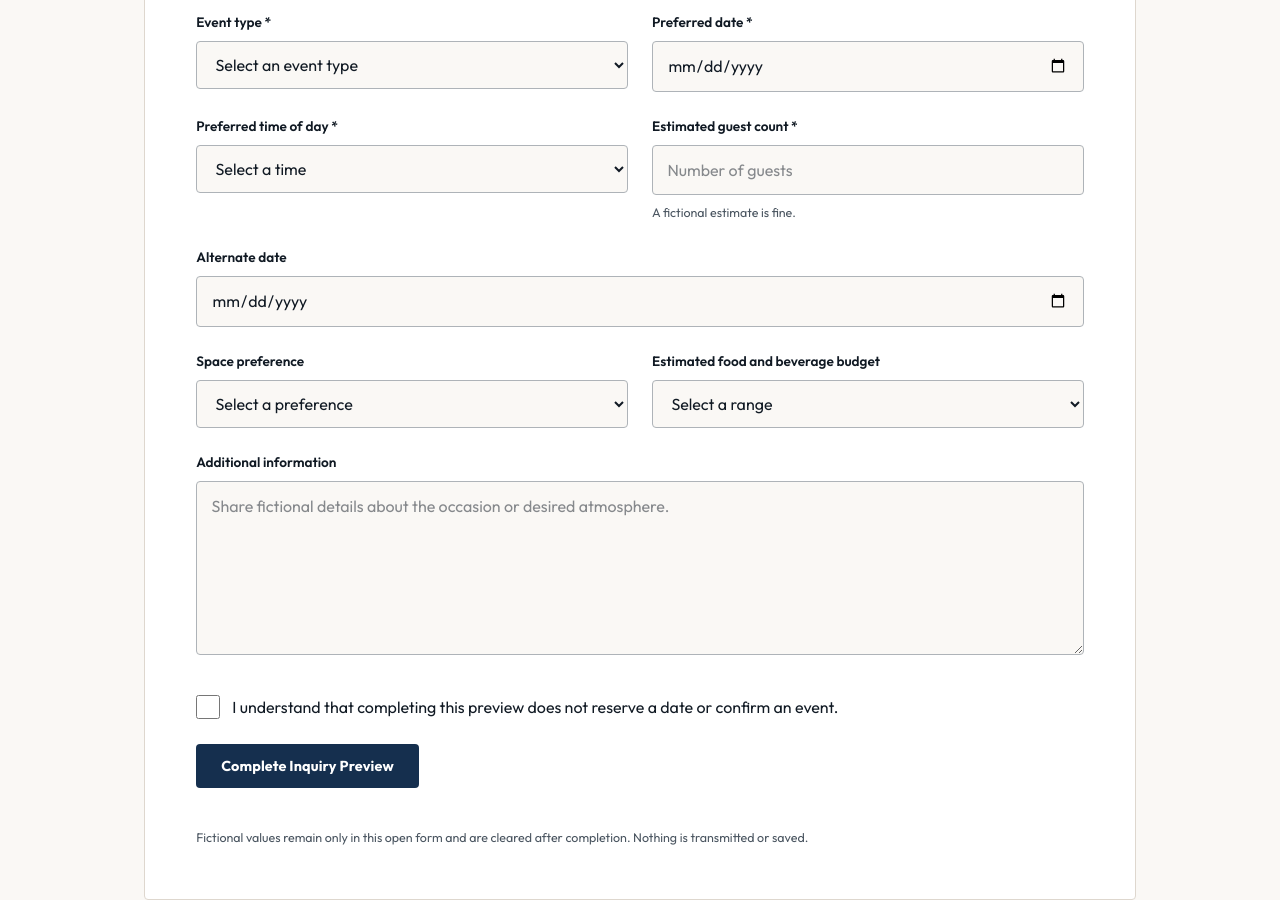
Test: private dining inquiry preview › discloses the local preview and focuses an associated validation summary
(page scrolled)
Click the button "Complete Inquiry Preview".
click(308, 766)  # box [196,744,419,788]
(page scrolled)
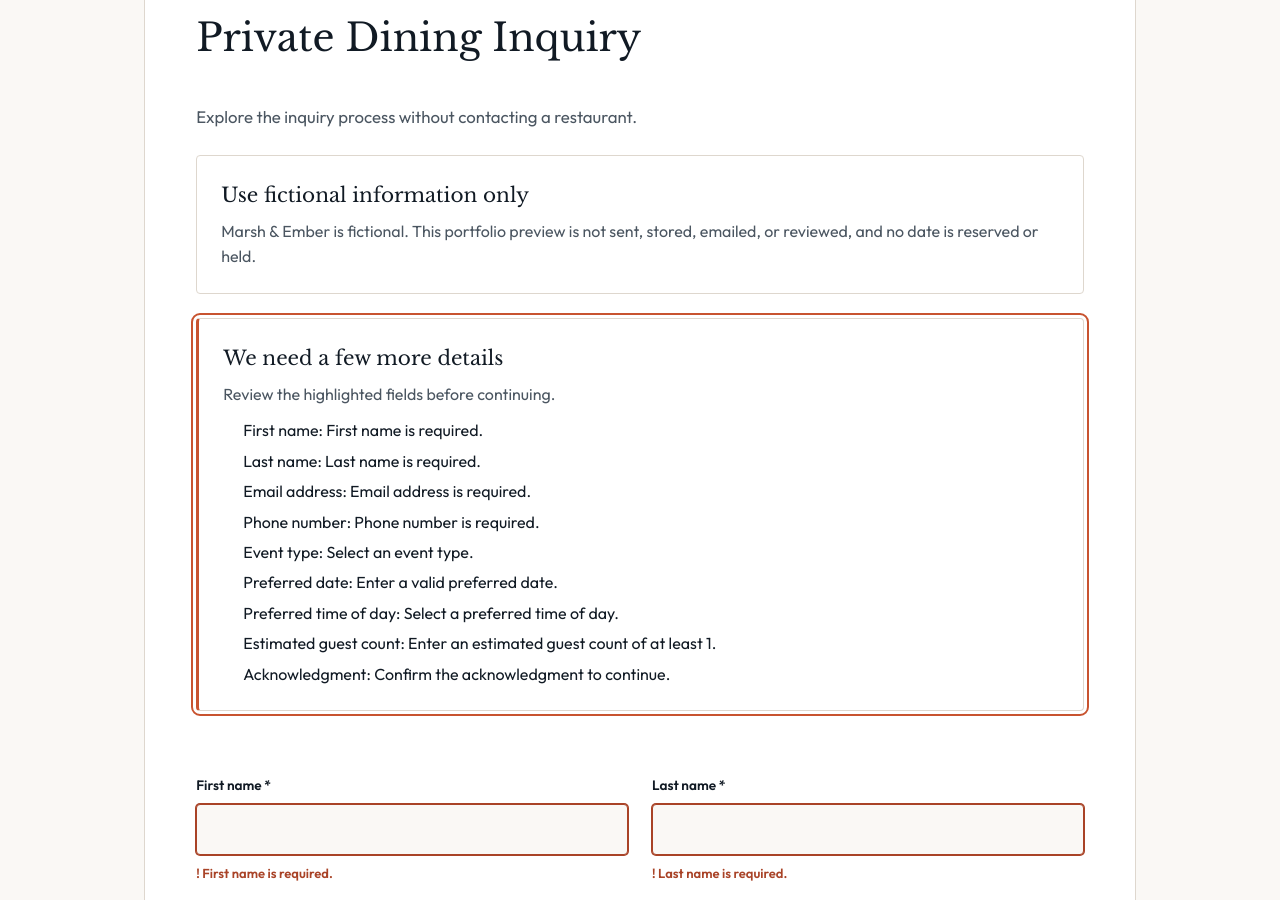
Result: the message shows "First name is required" at [243,420,483,440]
Type "Avery" into the field labelled "First name *".
click(412, 830); type("Avery")  # box [196,804,628,855]
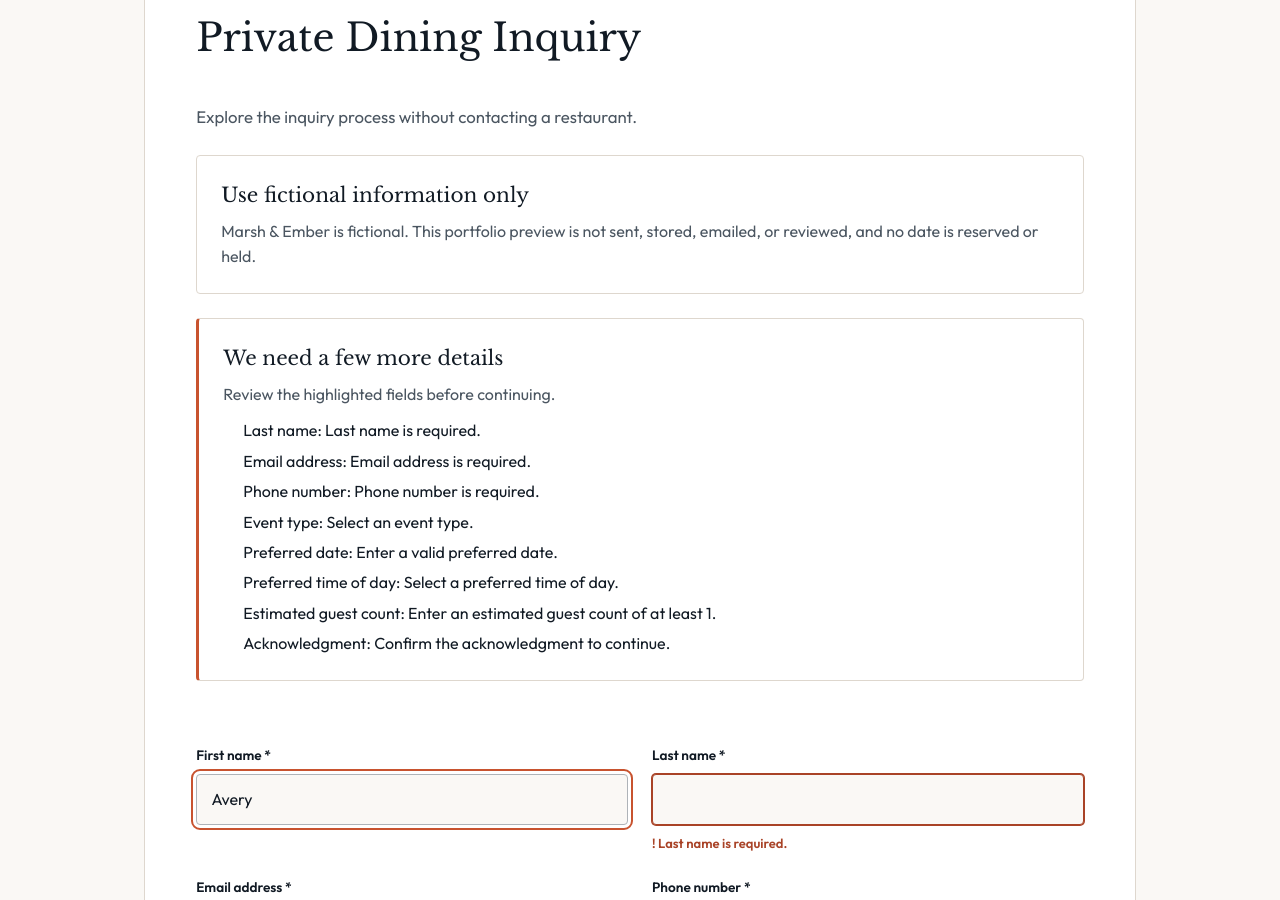
Result: the message shows "Last name is required" at [243,420,481,440]
Result: the link "First name is required." is gone
